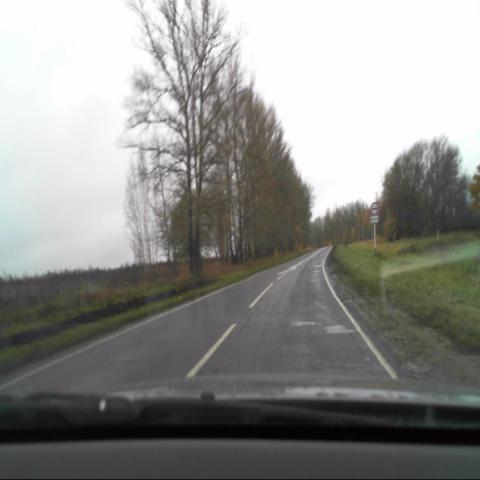3_20: (370, 200, 379, 215)
